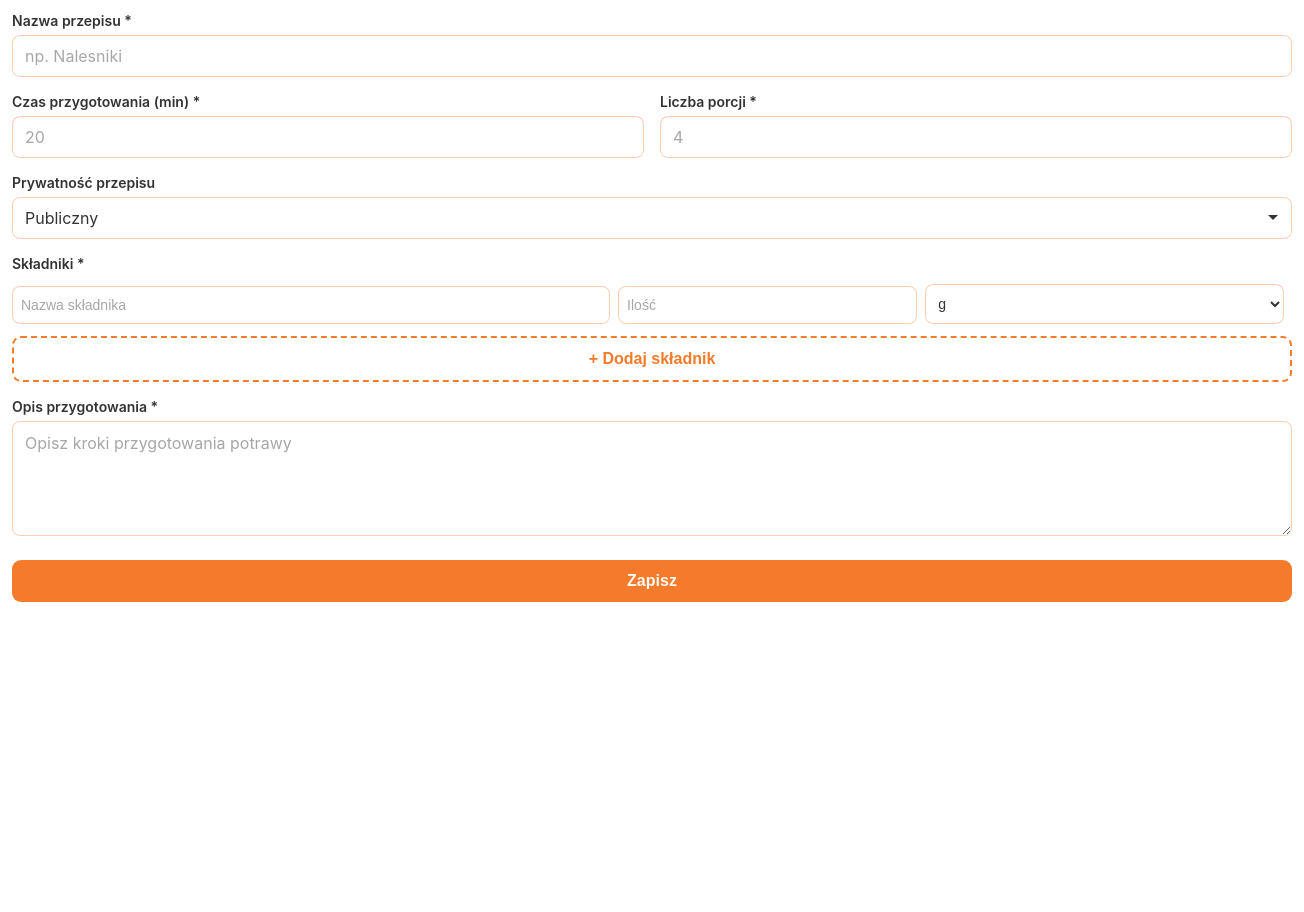
Scenario: RecipeForm › clears name validation error after user enters value
Click the button "Zapisz". click: click(652, 581)
box: [12,560,1292,602]
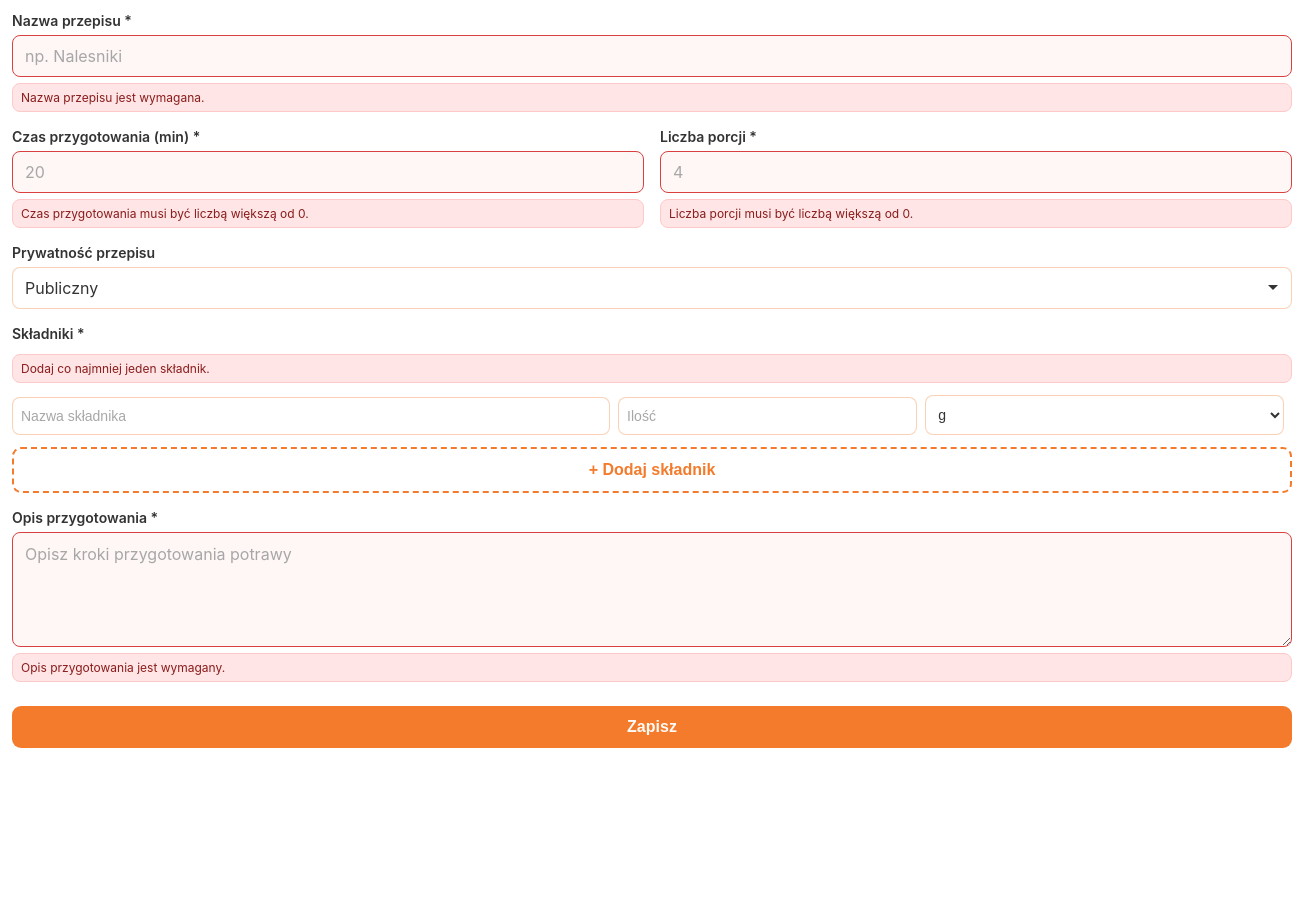
Expected: the text "Nazwa przepisu jest wymagana." is shown, [12,83,1292,112]
Type "Pierogi" into the field labelled "Nazwa przepisu *". click: (652, 56)
box: [12,35,1292,77]
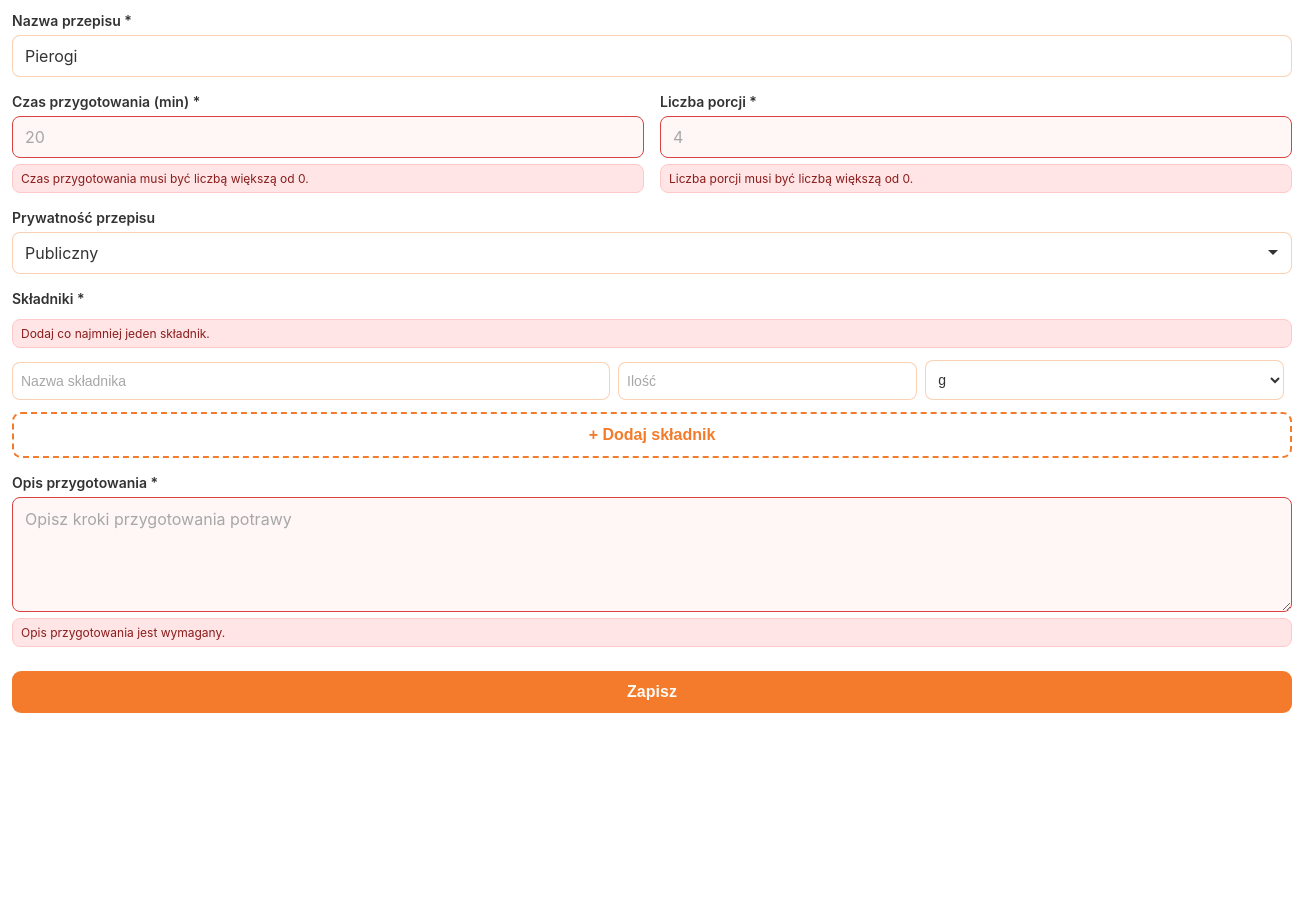
Expected: the text "Nazwa przepisu jest wymagana." is gone
